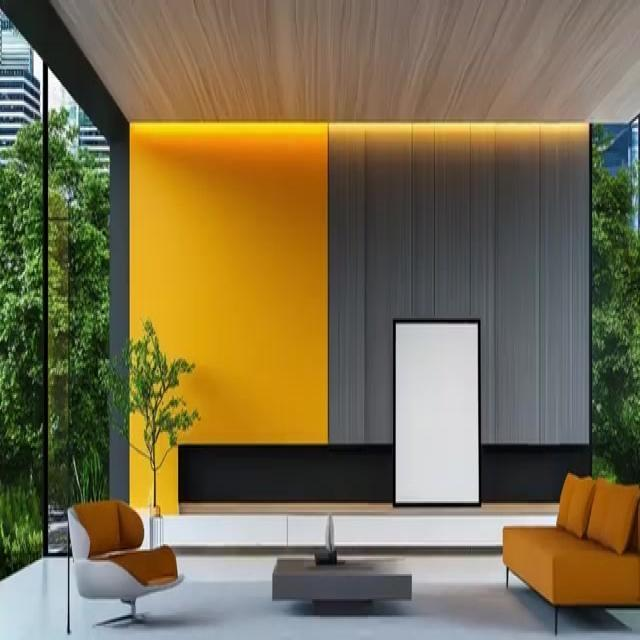obstacle: (501, 471, 639, 635), (66, 498, 184, 633), (271, 556, 412, 612)
